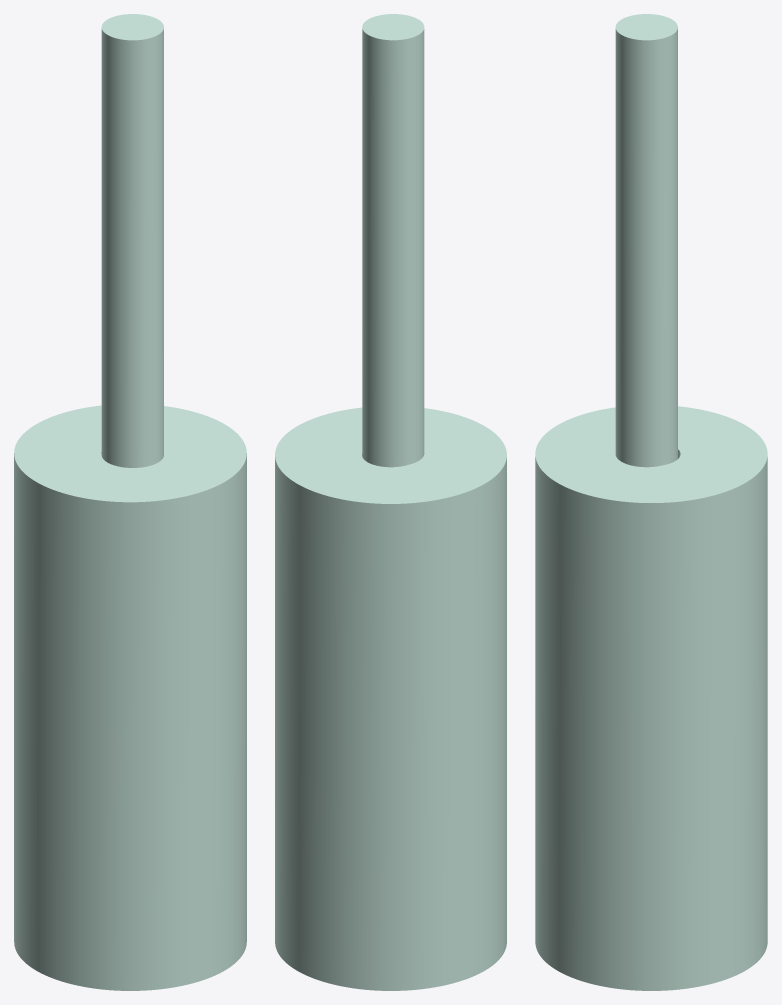
3 renders of one model, left to right at view 1: azimuth 30°, elevation 25°; view 2: azimuth 150°, elevation 25°; view 3: azimuth 270°, elevation 25°, orthographic.
Parts seen in each view (by area): view 1: Renderer Node; view 2: Renderer Node; view 3: Renderer Node.
Part boxes in pixels (box(x1,y1,x2,y2)): Renderer Node: box(14, 14, 246, 990); Renderer Node: box(275, 14, 506, 990); Renderer Node: box(535, 14, 767, 990).
Size of the model in its own units: 0.3236 by 1.41 by 0.3237.
